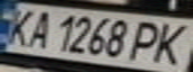1: (48, 11, 75, 53)
2: (69, 12, 93, 55)
6: (87, 14, 115, 57)
8: (103, 16, 136, 60)
A: (18, 7, 57, 50)
K: (145, 19, 193, 67), (0, 4, 42, 47)
P: (124, 18, 172, 62)
